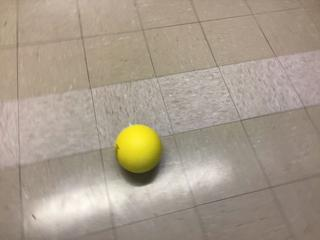power_cell: (114, 124, 163, 175)
